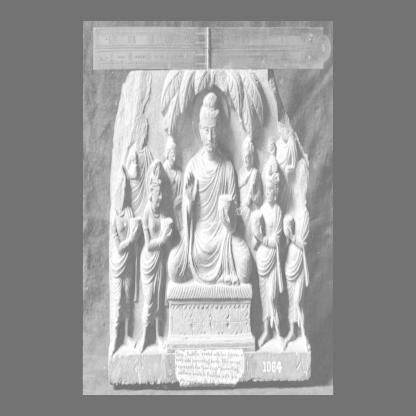buddha-sitting: (166, 92, 254, 351)
